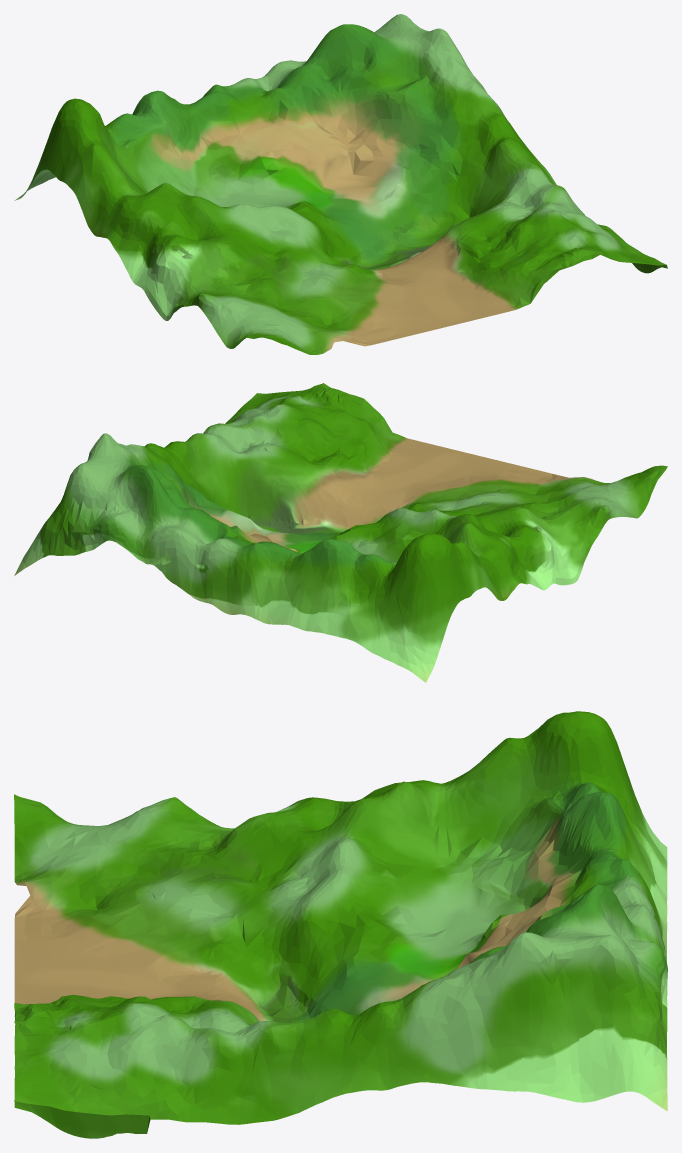
File: Terrain11.fbx
The picture shows the model from 3 angles, top to bottom: view 1: azimuth 30°, elevation 25°; view 2: azimuth 150°, elevation 25°; view 3: azimuth 270°, elevation 25°; orthographic projection. The views are drawn at different scales.
Visible parts, largest first — view 1: Map1_10000p; view 2: Map1_10000p; view 3: Map1_10000p.
Part boxes in pixels (x1,y1,x2,y2): Map1_10000p: (14,14,667,354); Map1_10000p: (14,383,667,682); Map1_10000p: (14,711,667,1138).
Size of the model in its own units: 20043 by 6432 by 20279.
